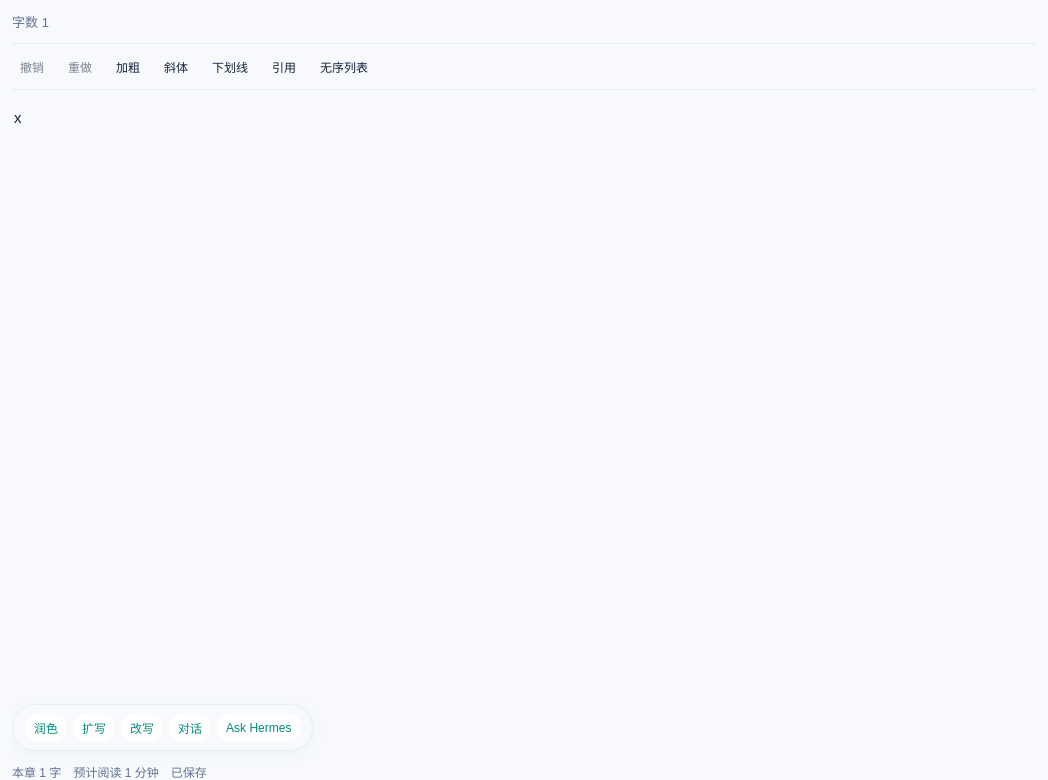
Test: ChapterEditor › shows Save failed when the save rejects
The image size is (1048, 780).
Type "y" into the text box named "章节正文".
click(524, 397); type("y")  # box [12,102,1036,692]
Wait 1600 ms
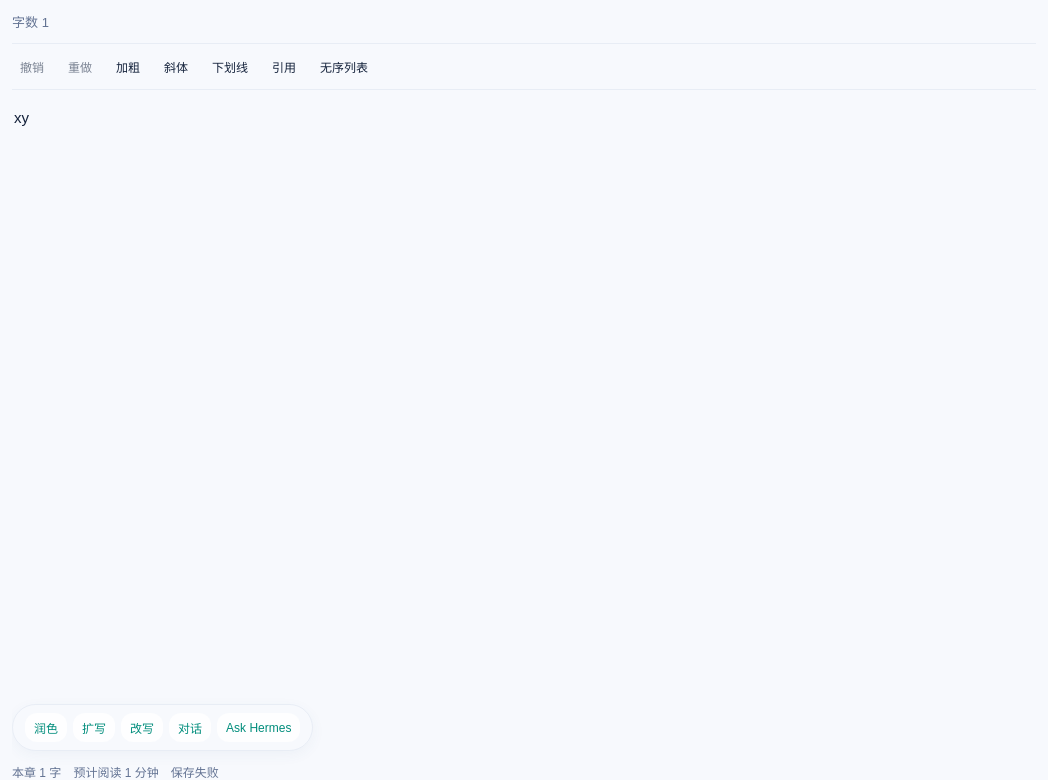
Check: the message reads "保存失败", box [171,766,219,779]
